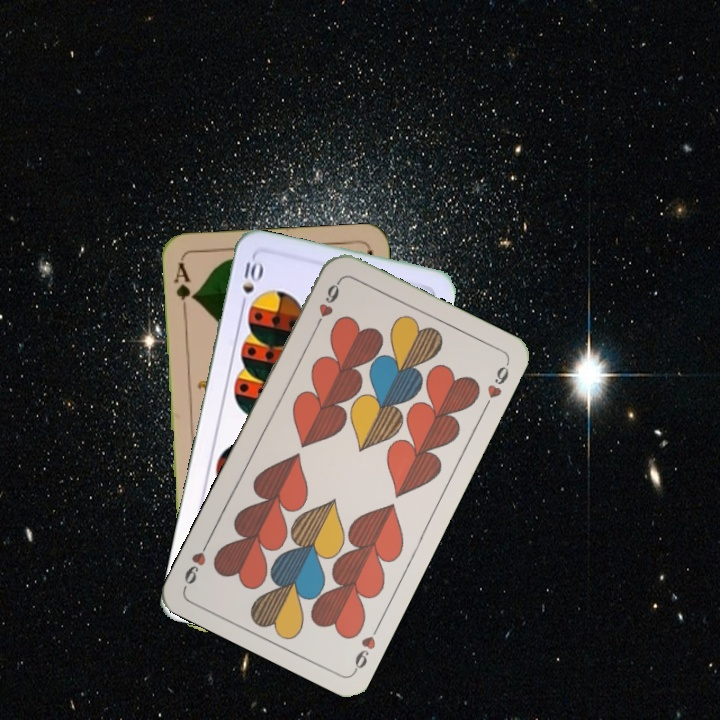GA: (170, 258, 198, 317)
H9: (350, 619, 383, 675), (311, 276, 344, 331)
S10: (236, 253, 264, 312)
